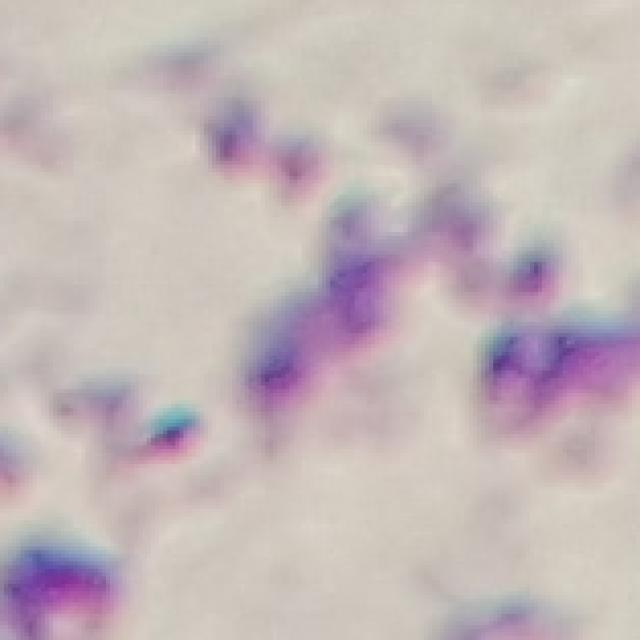non-sperm: (206, 113, 484, 478)
